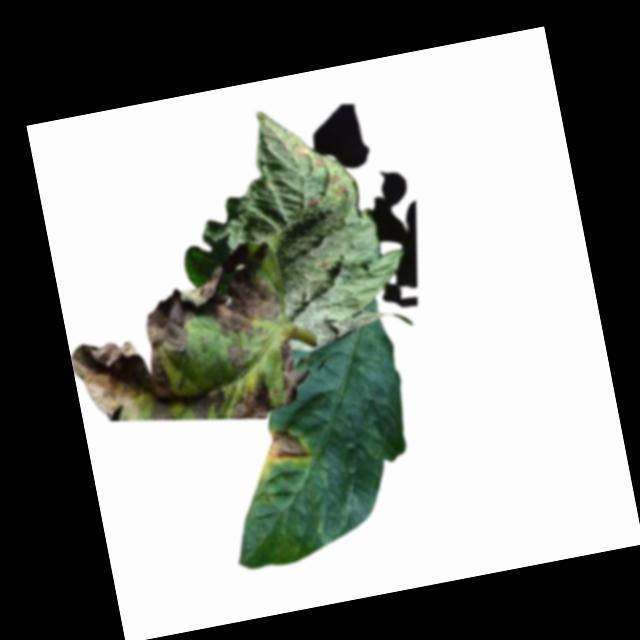Early_blight: (58, 252, 293, 434), (222, 371, 276, 430), (271, 332, 302, 405), (261, 421, 309, 466), (178, 382, 229, 424), (303, 192, 320, 207), (311, 155, 326, 168), (334, 182, 347, 195), (327, 173, 339, 183)
